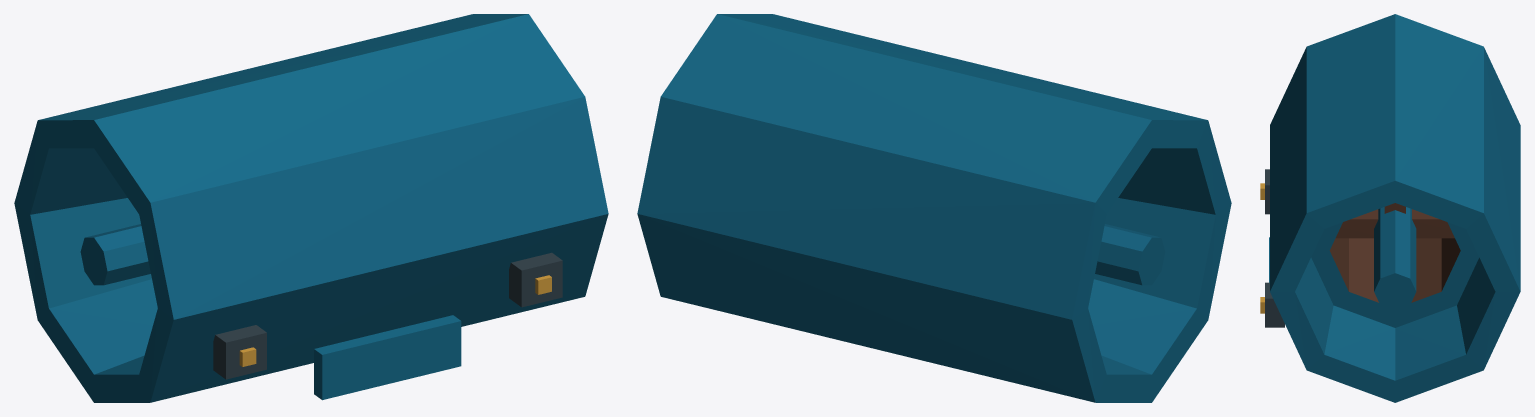
The model's file is quay-cart-sky.glb.
The picture shows the model from 3 angles, left to right: view 1: azimuth 30°, elevation 25°; view 2: azimuth 150°, elevation 25°; view 3: azimuth 270°, elevation 25°; orthographic projection. The views are drawn at different scales.
Parts seen in each view (by area): view 1: quay-cart-sky; view 2: quay-cart-sky; view 3: quay-cart-sky.
Boxes of the visible parts, box(x1,y1,x2,y2) form: quay-cart-sky: box(14, 14, 608, 402); quay-cart-sky: box(637, 14, 1231, 402); quay-cart-sky: box(1260, 14, 1520, 402).
Size of the model in its own units: 1.48 by 0.92 by 0.9757.
